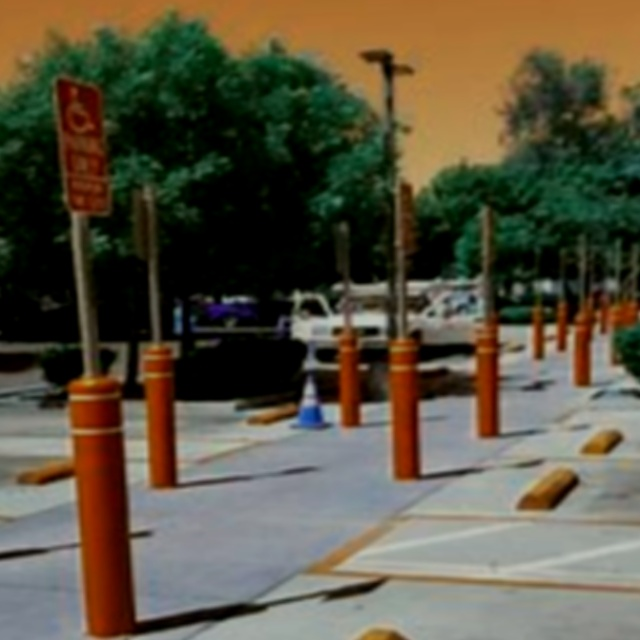ISA: (61, 85, 99, 143)
